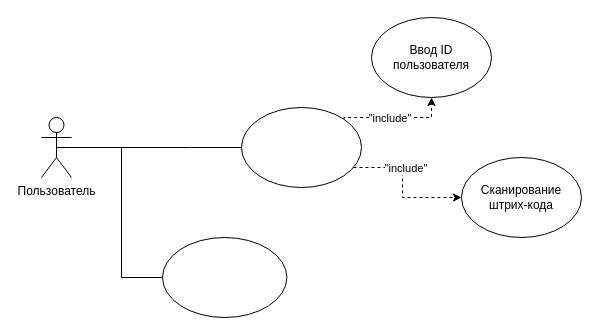
Some shapes in this 599 by 335 pixel diagram are drawn without their labels. Each missing label, with the box of its shape:
Авторизация: (240, 106, 362, 188)
Просмотр каталога книг: (162, 236, 287, 318)
